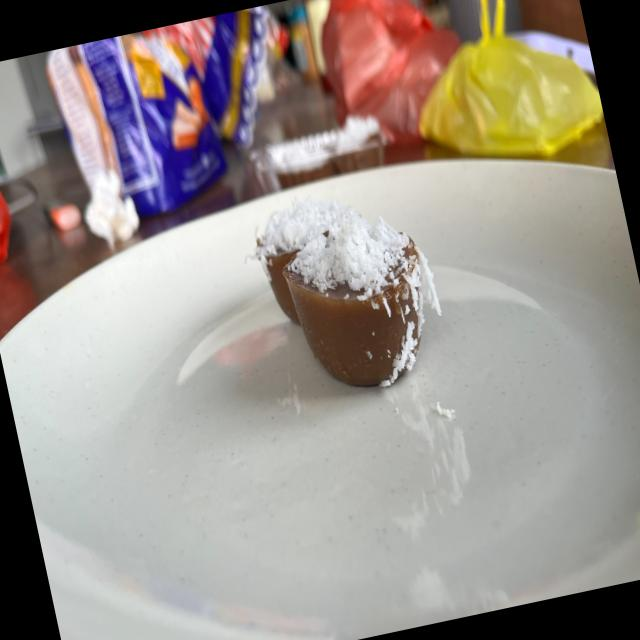Kuih lompang: (283, 207, 440, 386), (250, 197, 342, 323)
